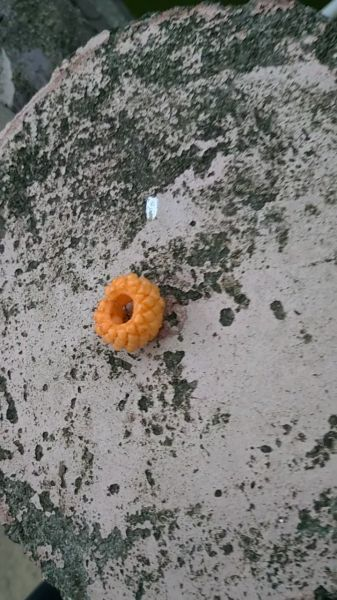eggs: (89, 266, 167, 356)
